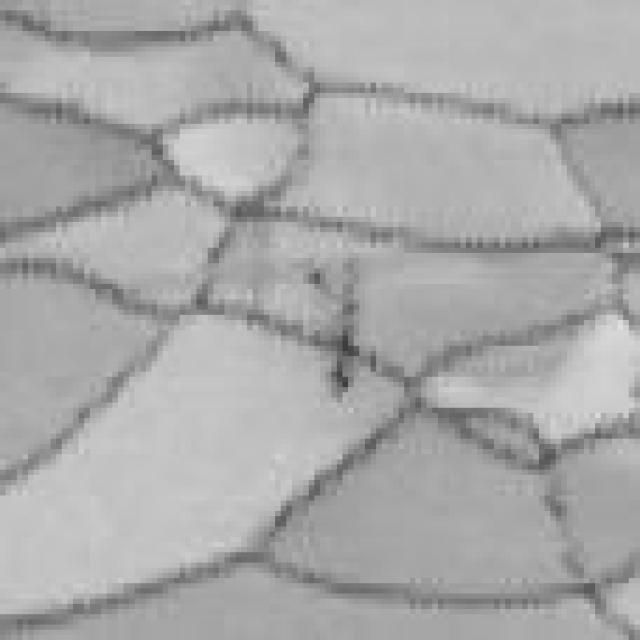good_void: (331, 299, 348, 397), (309, 268, 320, 289)
